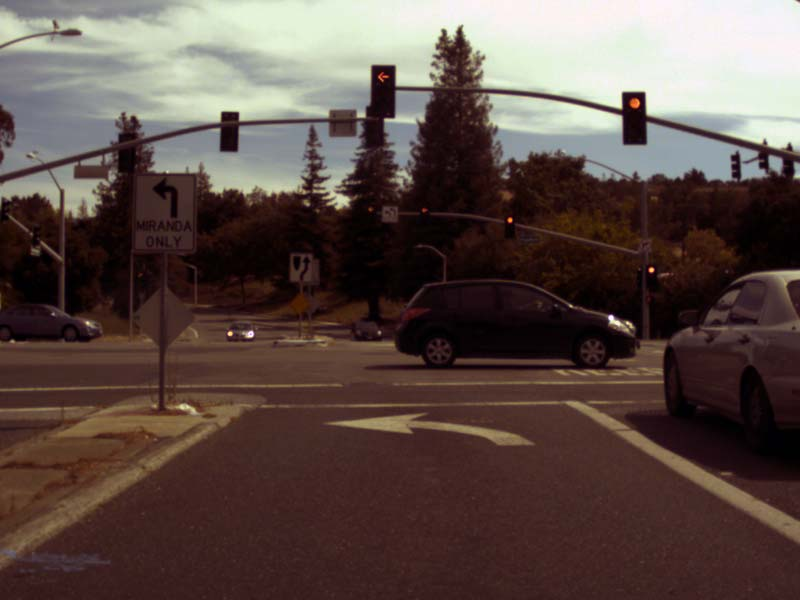Red: (370, 64, 395, 117), (622, 91, 645, 144), (644, 264, 657, 290), (419, 205, 429, 227), (504, 215, 514, 237), (367, 206, 374, 220)
